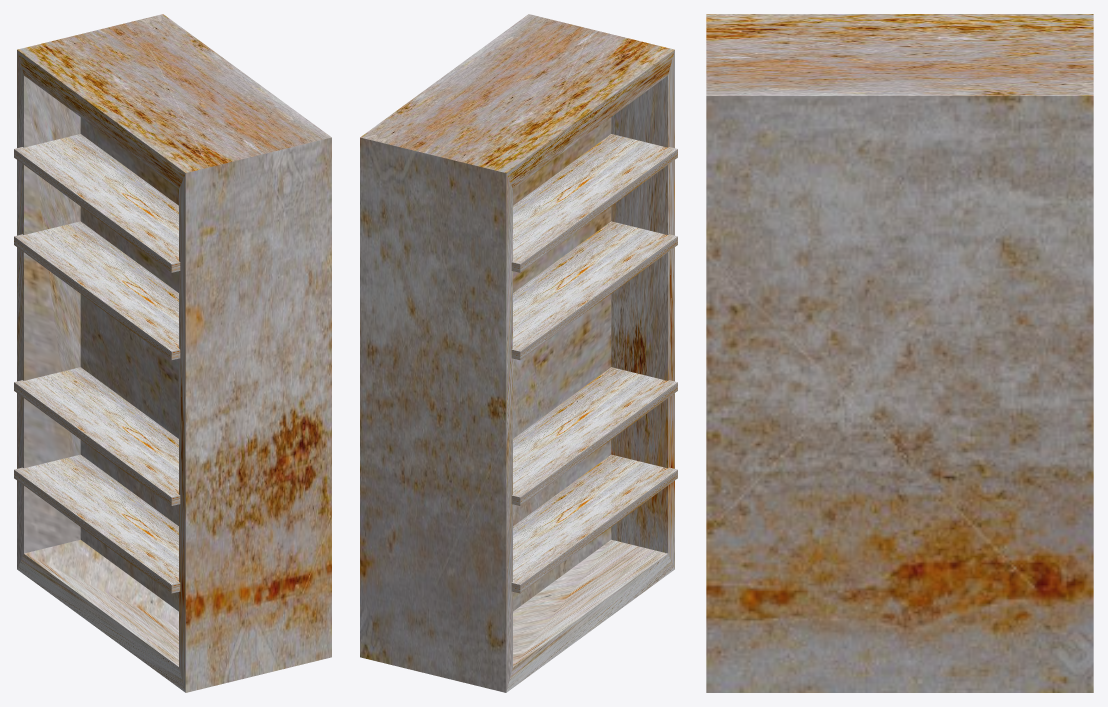
Rendered from Estante.glb.
3 renders of one model, left to right at view 1: azimuth 30°, elevation 25°; view 2: azimuth 150°, elevation 25°; view 3: azimuth 270°, elevation 25°, orthographic. The views are drawn at different scales.
Parts seen in each view (by area): view 1: Cubo.019, Cubo.020; view 2: Cubo.019, Cubo.020; view 3: Cubo.019.
Part boxes in pixels (<box>): Cubo.019: <box>17,14,331,692</box>; Cubo.020: <box>14,134,180,593</box>; Cubo.019: <box>360,14,674,692</box>; Cubo.020: <box>511,134,677,593</box>; Cubo.019: <box>706,14,1093,692</box>.
Bounding box in the file's own units: 1.06 × 3.4 × 2.
1 material, 1 textured.
